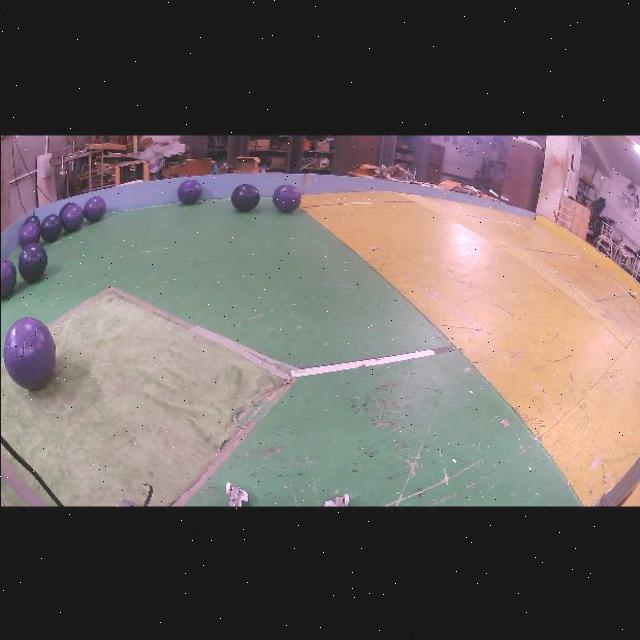B: (18, 243, 46, 282), (230, 184, 259, 211), (39, 213, 61, 242), (23, 215, 39, 227)
P: (2, 317, 55, 390), (272, 184, 300, 212), (176, 179, 202, 204), (60, 203, 83, 231), (0, 259, 16, 299), (82, 195, 105, 221), (18, 222, 39, 248)
